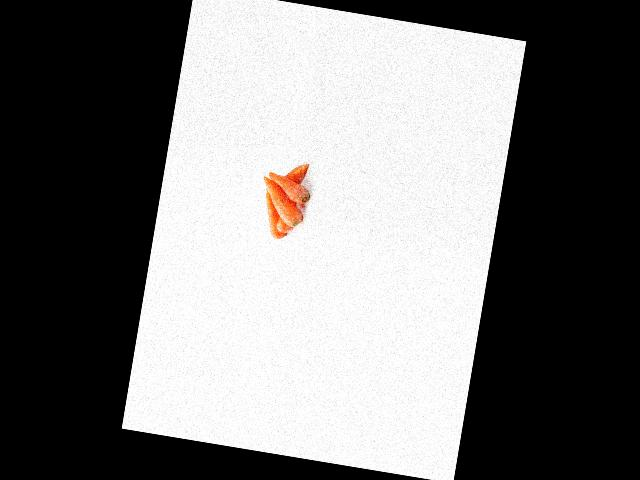carrot: (265, 170, 313, 206)
